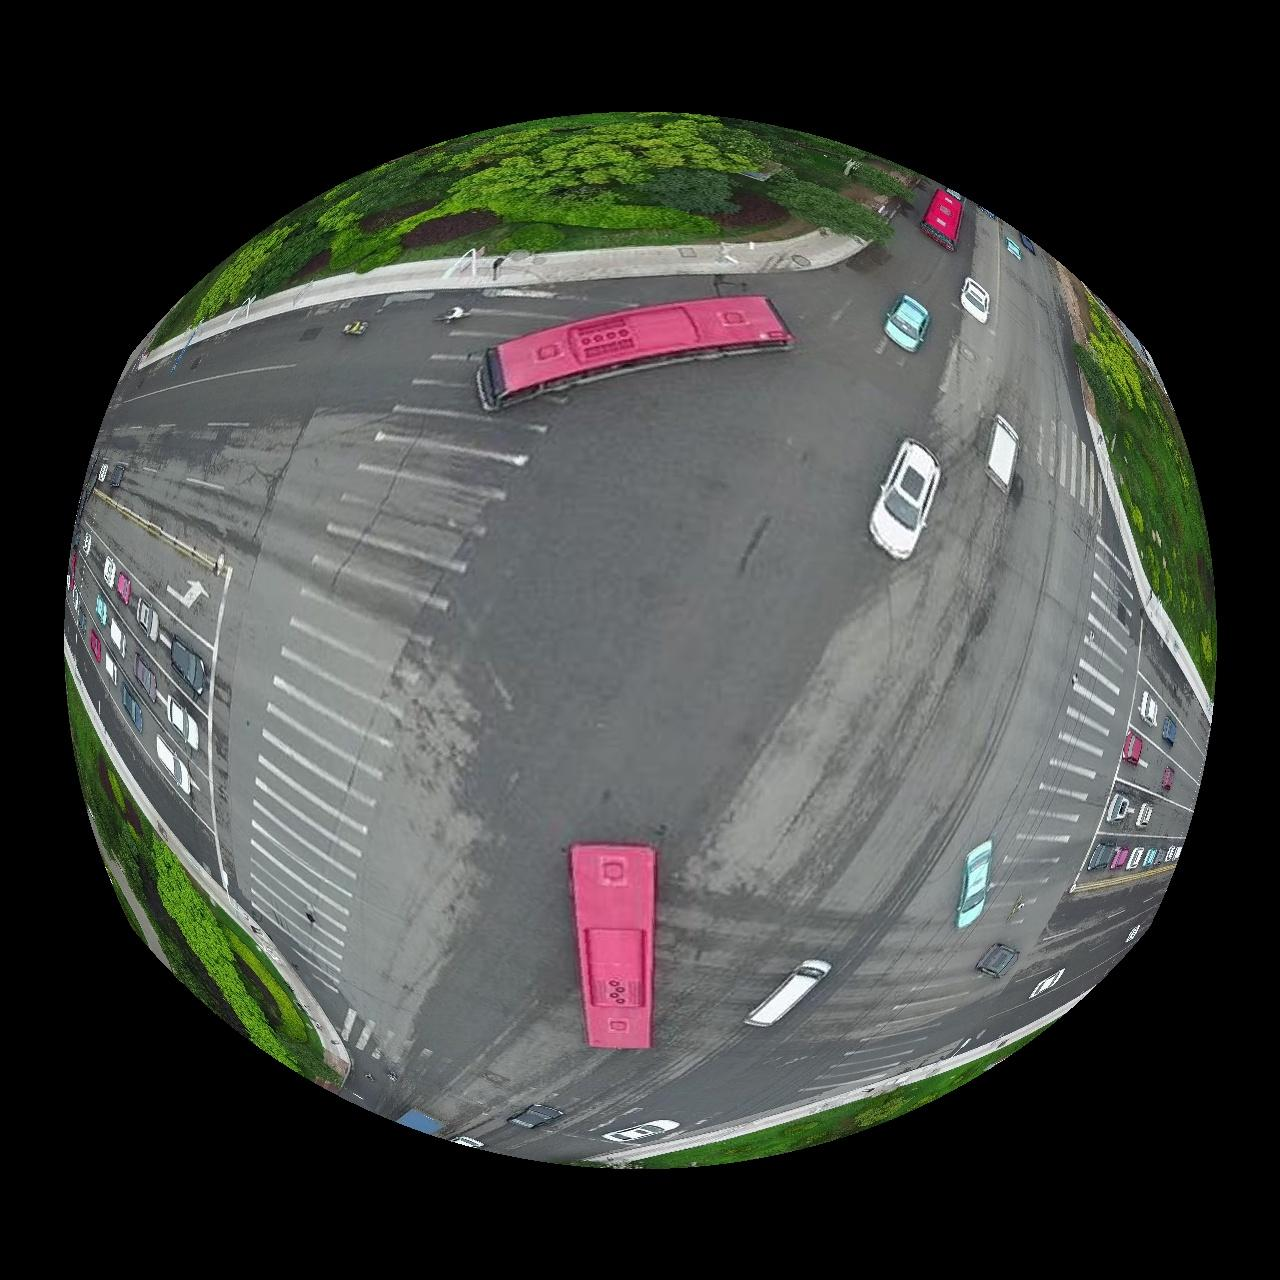cars: (479, 295, 794, 408), (570, 845, 657, 1050), (871, 438, 942, 560), (745, 961, 831, 1028), (957, 839, 994, 930), (885, 293, 933, 352), (922, 187, 966, 248), (988, 414, 1021, 494), (168, 638, 206, 696), (155, 737, 192, 796), (602, 1121, 680, 1146), (163, 697, 197, 750), (507, 1105, 564, 1132), (961, 276, 993, 322), (133, 653, 157, 702), (120, 682, 141, 732), (135, 599, 157, 642), (108, 620, 125, 658), (115, 572, 130, 604), (101, 556, 115, 588), (88, 630, 100, 662), (94, 594, 106, 624), (105, 654, 116, 684)
trees: (158, 111, 911, 338), (68, 681, 337, 1080), (592, 1024, 1052, 1170), (1077, 289, 1219, 690)
